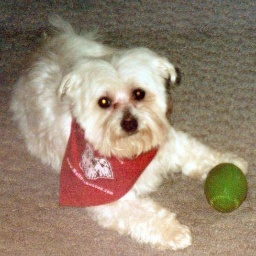dog: (10, 26, 247, 248)
